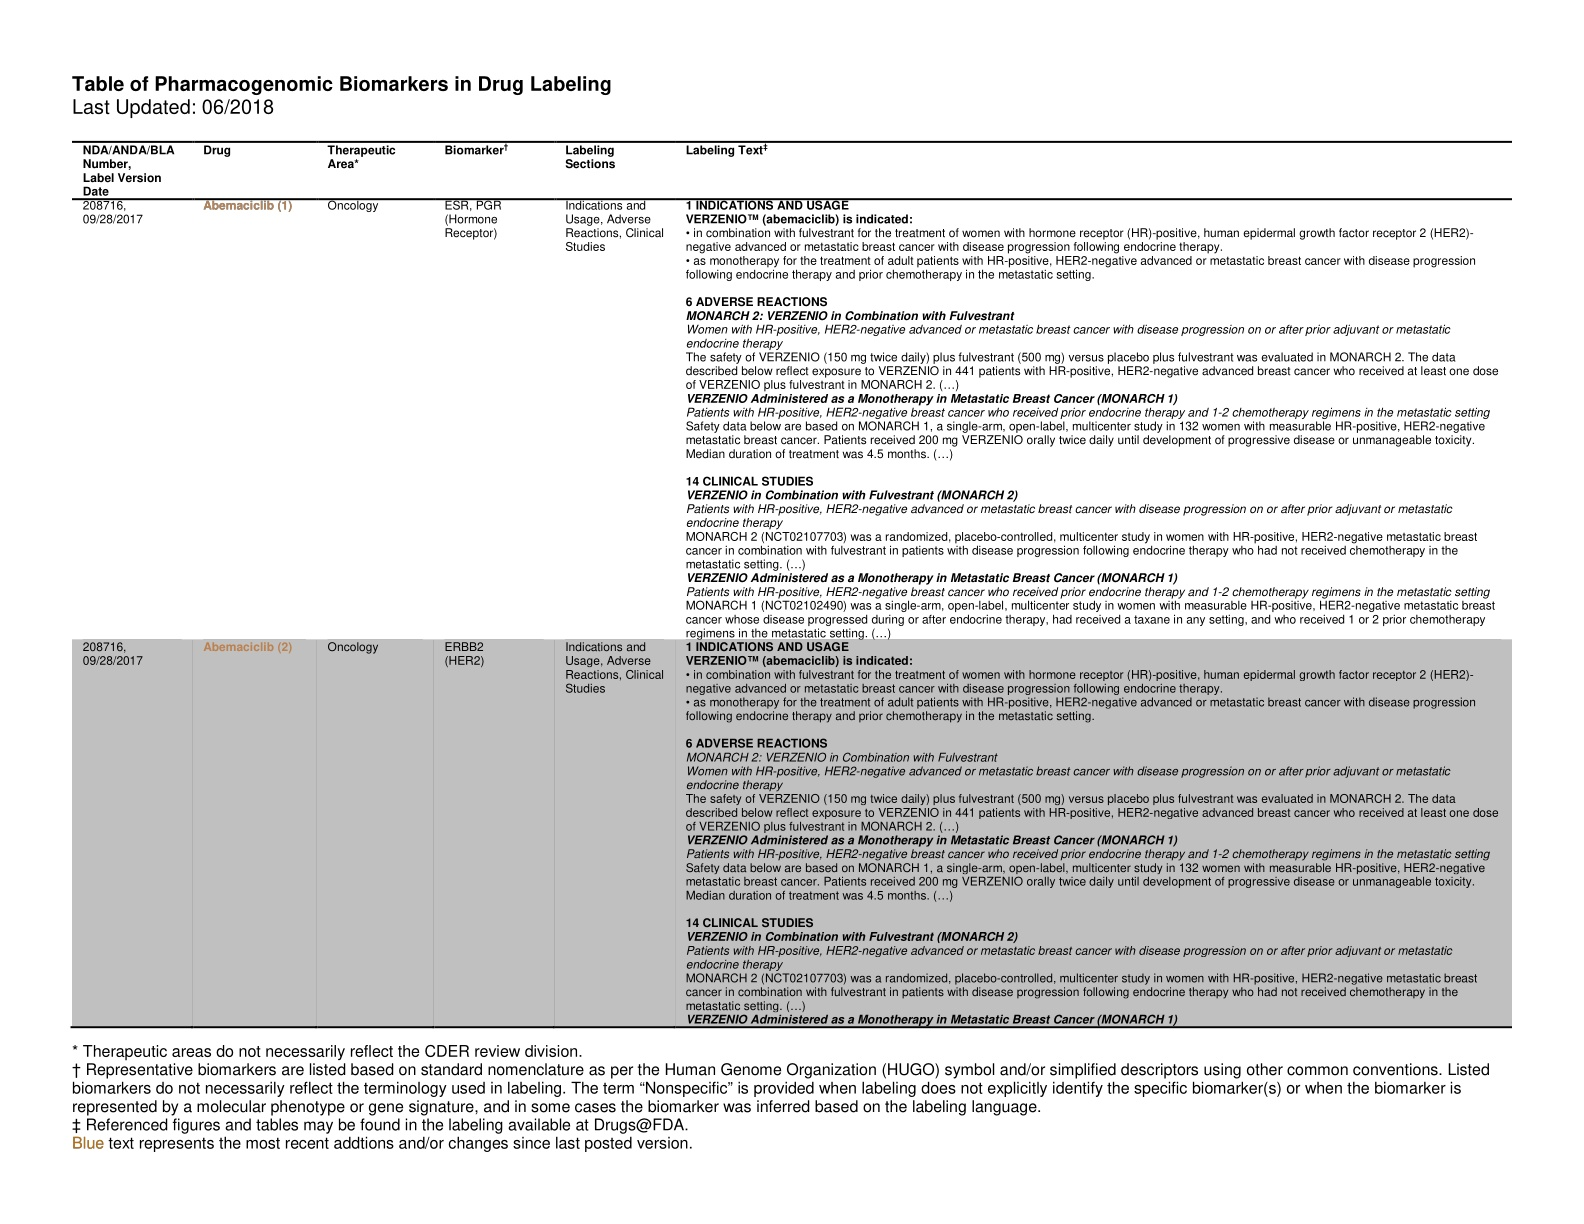partial_lined: (68, 138, 1515, 1030)
